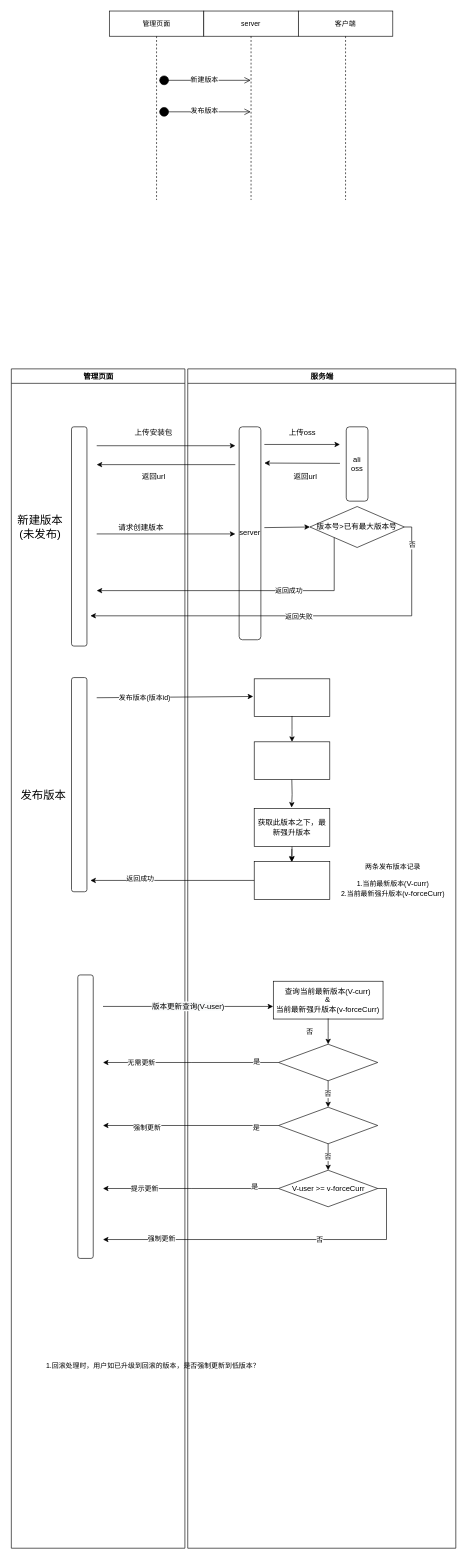
This 467x1559 diagram has some shape labels left out. The shapes that lost their labels are listed below. From the top down, each one's box as (x1, y1, x2, y2) in pixels, then its label:
(254, 678, 330, 717): 更改目前发布版本为历史版本
(254, 741, 330, 780): 此版本设置为发布版本
(254, 861, 330, 899): 更改redis
(278, 1044, 378, 1081): V-user==V-curr？
(278, 1107, 378, 1144): V-curr是否为强升
